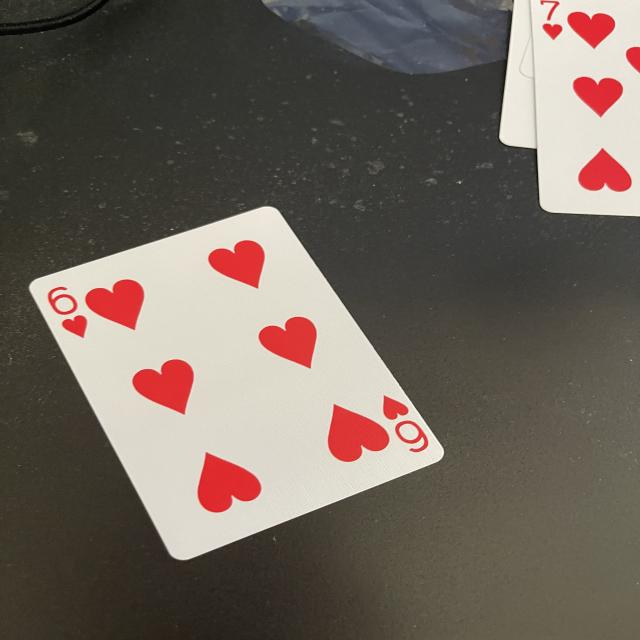6 of hearts: (32, 205, 450, 566)
7 of hearts: (532, 0, 640, 218)
